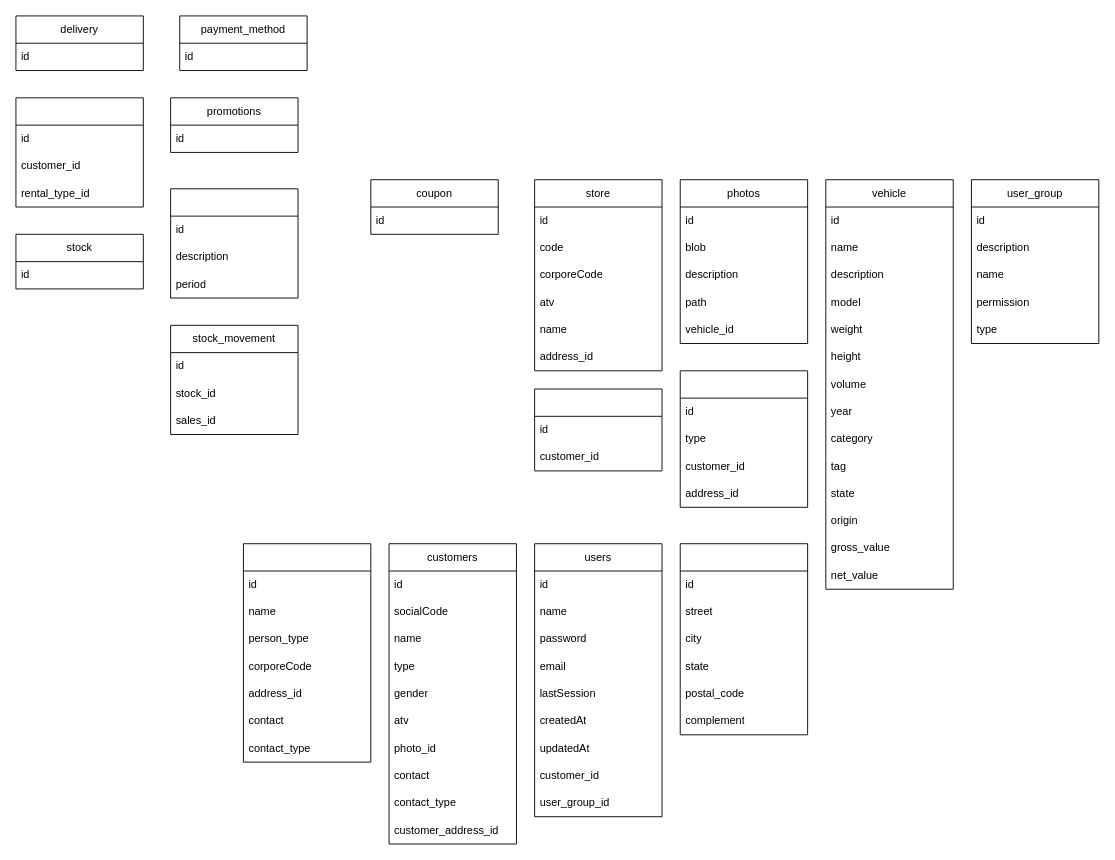
Some shapes in this 1115 by 860 pixel diagram are drawn without their labels. Here are the shapes that lost their labels. From the top down, the box of each, then its label:
(15, 97, 143, 207): rentals
(170, 188, 298, 298): rental_type
(534, 388, 662, 471): sales
(679, 370, 808, 507): customer_address
(243, 543, 371, 762): suppliers
(679, 543, 808, 735): address
